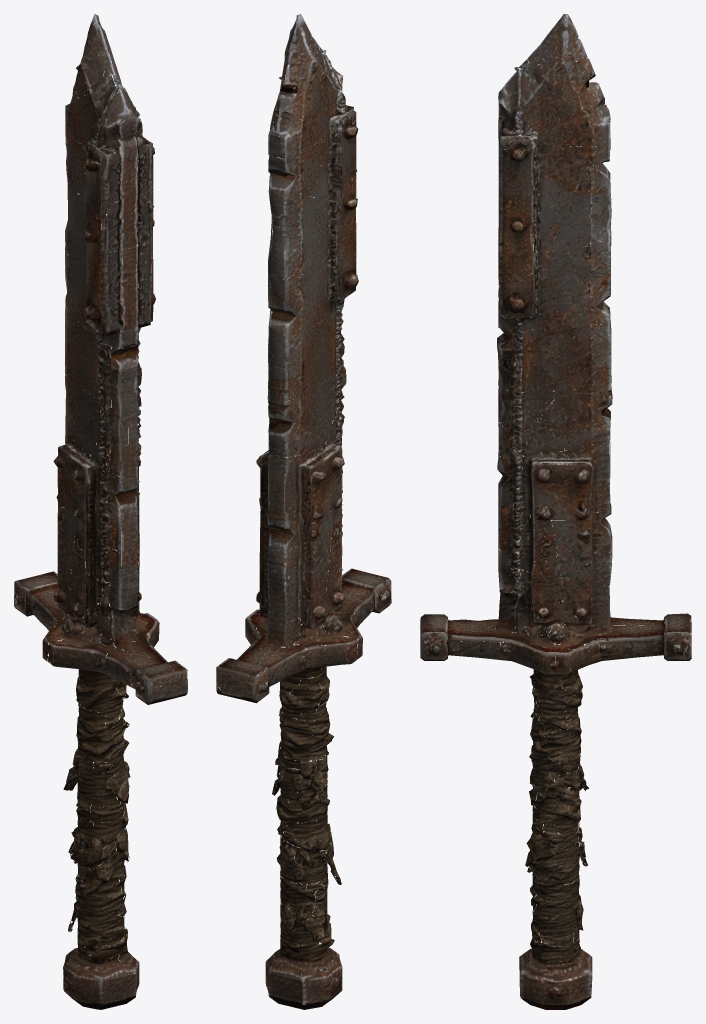
File: w_kain_scrap.glb
3 views of the same model, side by side, from view 1: azimuth 30°, elevation 25°; view 2: azimuth 150°, elevation 25°; view 3: azimuth 270°, elevation 25° (orthographic).
Parts seen in each view (by area): view 1: tripo_node_236165c6-7fdb-4dd2-a774-7bc9ab7ba23a; view 2: tripo_node_236165c6-7fdb-4dd2-a774-7bc9ab7ba23a; view 3: tripo_node_236165c6-7fdb-4dd2-a774-7bc9ab7ba23a.
Part boxes in pixels (bbox=[...]): tripo_node_236165c6-7fdb-4dd2-a774-7bc9ab7ba23a: bbox=[14, 14, 187, 1009]; tripo_node_236165c6-7fdb-4dd2-a774-7bc9ab7ba23a: bbox=[216, 14, 391, 1009]; tripo_node_236165c6-7fdb-4dd2-a774-7bc9ab7ba23a: bbox=[420, 14, 691, 1009].
Bounding box in the file's own units: 0.112 × 0.9796 × 0.2449.
Materials: 1 (1 with a texture image).
